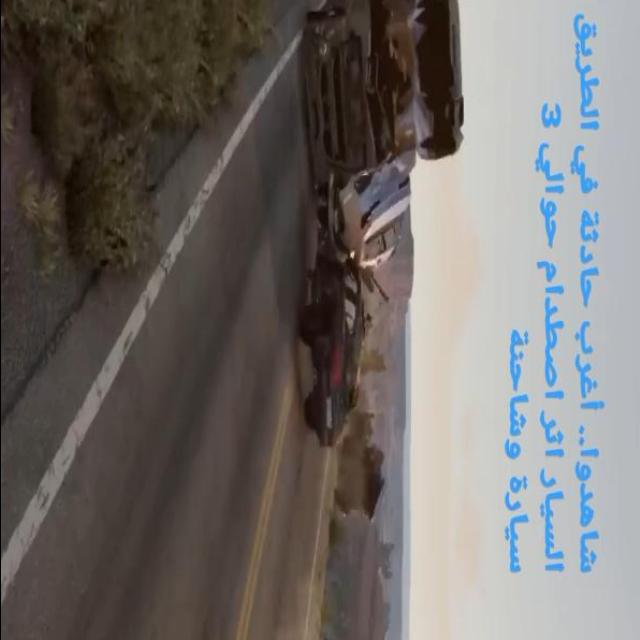accident: (296, 0, 488, 456)
